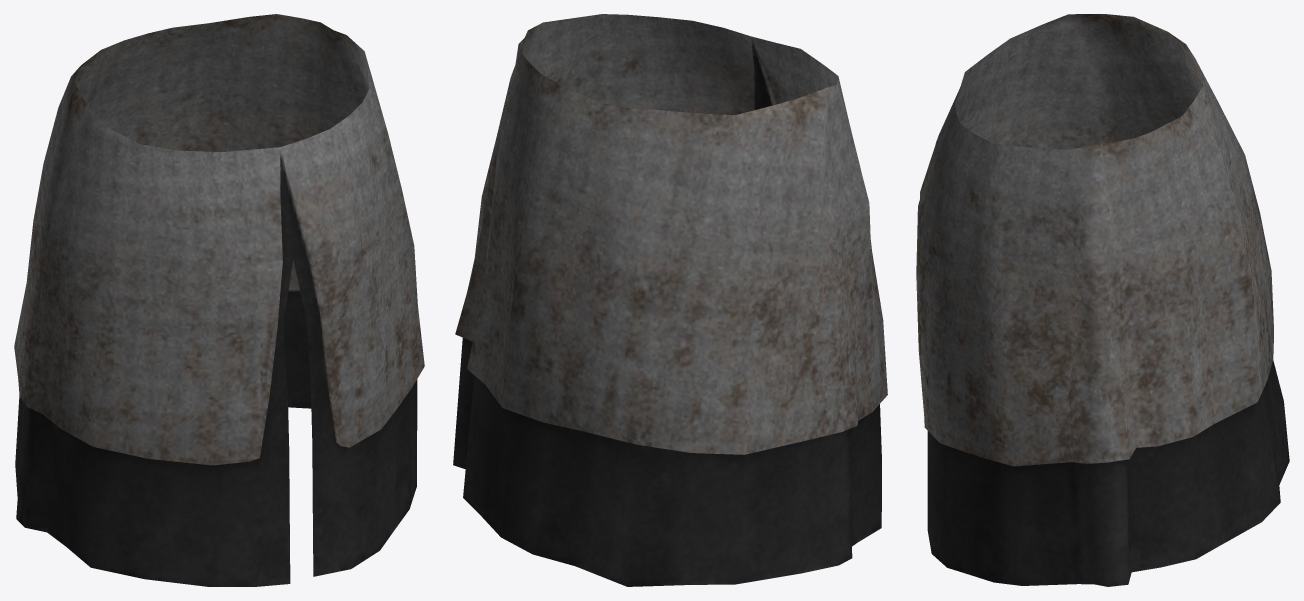
Rendered from clo_pg_spearman_armor_01.fbx.
3 views of the same model, side by side, from view 1: azimuth 30°, elevation 25°; view 2: azimuth 150°, elevation 25°; view 3: azimuth 270°, elevation 25° (orthographic). The views are drawn at different scales.
Visible parts, largest first — view 1: clo_pg_spearman_armor_01; view 2: clo_pg_spearman_armor_01; view 3: clo_pg_spearman_armor_01.
Boxes of the visible parts, x1,y1,x2,y2 form: clo_pg_spearman_armor_01: (14,14,424,586); clo_pg_spearman_armor_01: (453,14,887,586); clo_pg_spearman_armor_01: (916,14,1289,586).
Bounding box in the file's own units: 0.5225 × 0.4518 × 0.6043.
1 material, 1 textured.
